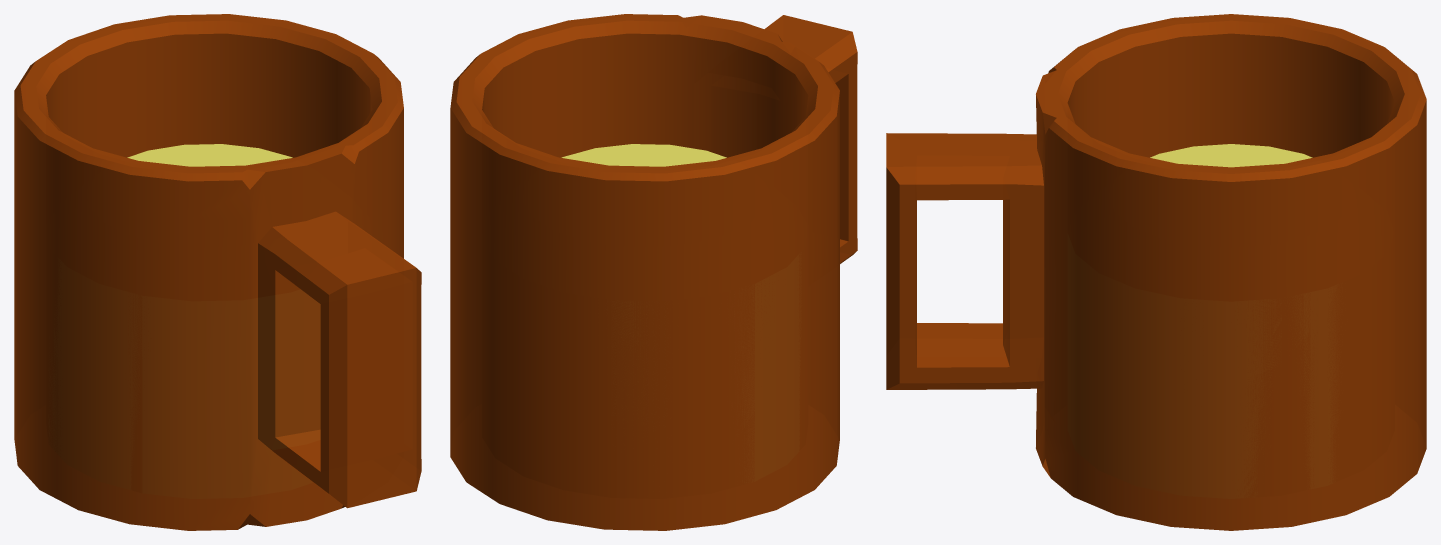
File: BeerPrefab.fbx
The picture shows the model from 3 angles, left to right: view 1: azimuth 30°, elevation 25°; view 2: azimuth 150°, elevation 25°; view 3: azimuth 270°, elevation 25°; orthographic projection.
Visible parts, largest first — view 1: pCylinder3; view 2: pCylinder3; view 3: pCylinder3.
Part boxes in pixels (<box>): pCylinder3: <box>14,14,421,530</box>; pCylinder3: <box>450,14,857,530</box>; pCylinder3: <box>886,14,1426,530</box>.
Size of the model in its own units: 2 by 2 by 2.77.
